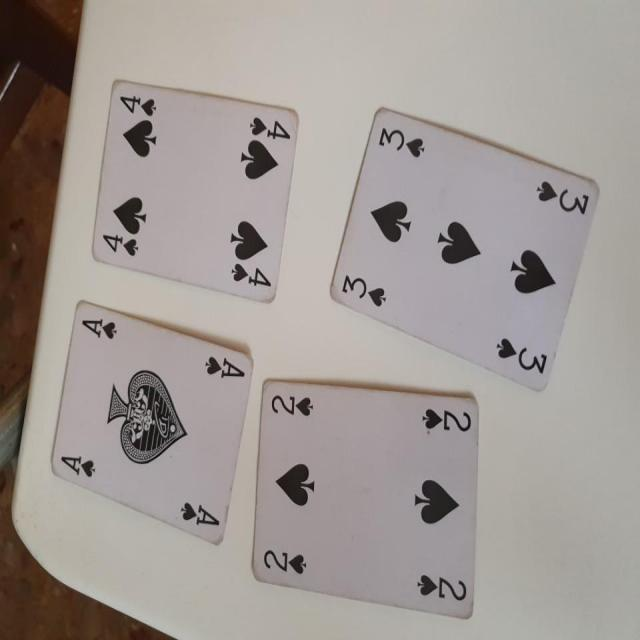3 Diamonds: (255, 378, 480, 617)
4 Diamonds: (328, 106, 604, 394)
5 Diamonds: (91, 79, 299, 302)
A Spades: (56, 300, 250, 554)
